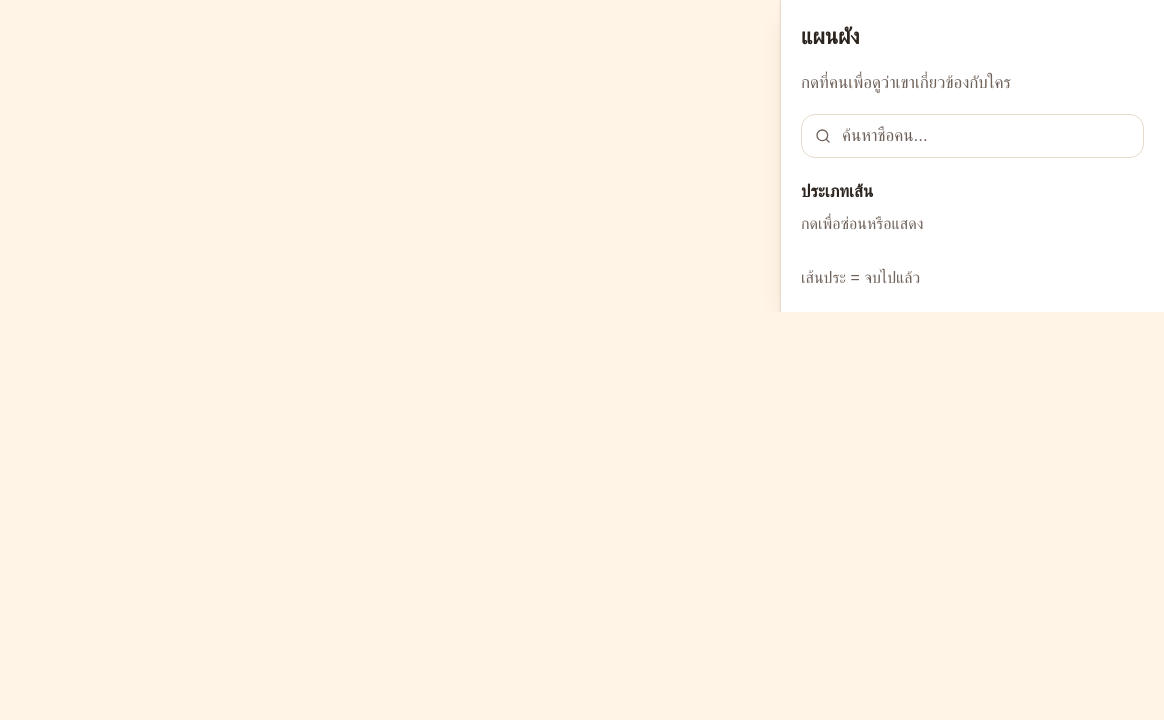
Test case: GraphPage starting view › walks to someone found through the panel's search
The image size is (1164, 720).
Type "คน 4" into the field labelled "ค้นหาชื่อคน...".
click(972, 136); type("คน 4")  # box left=801, top=114, right=1144, bottom=158
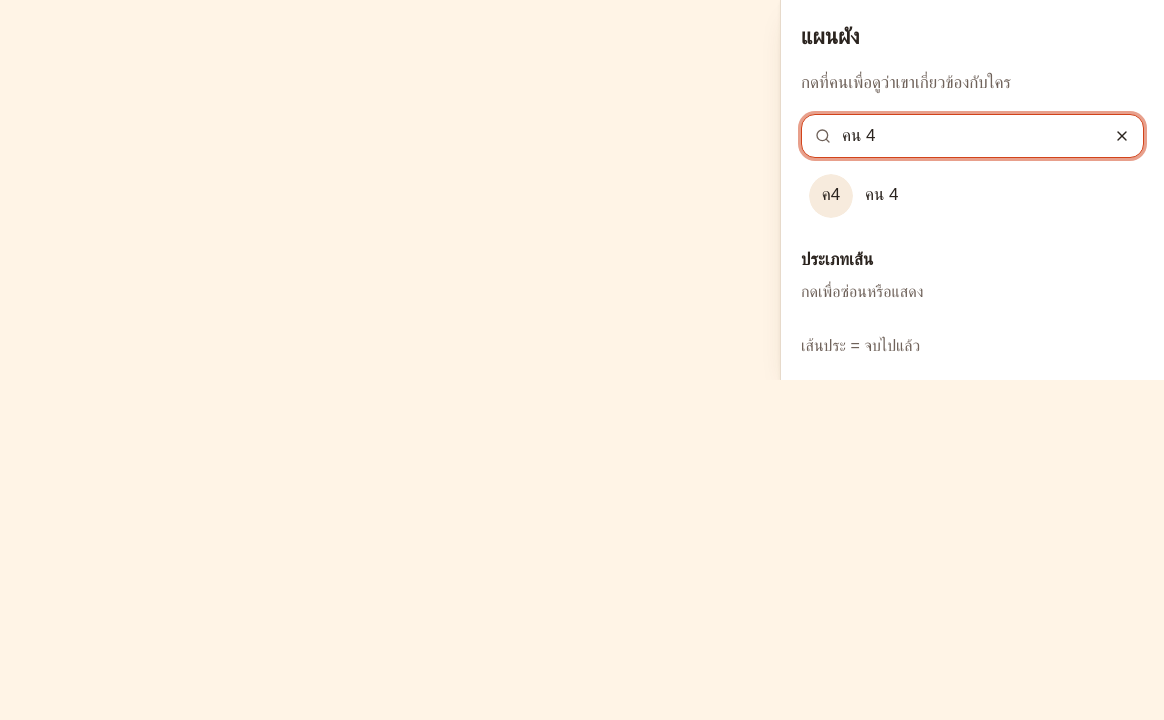
Click the button "ค4 คน 4".
click(831, 196)  # box left=801, top=166, right=1144, bottom=226
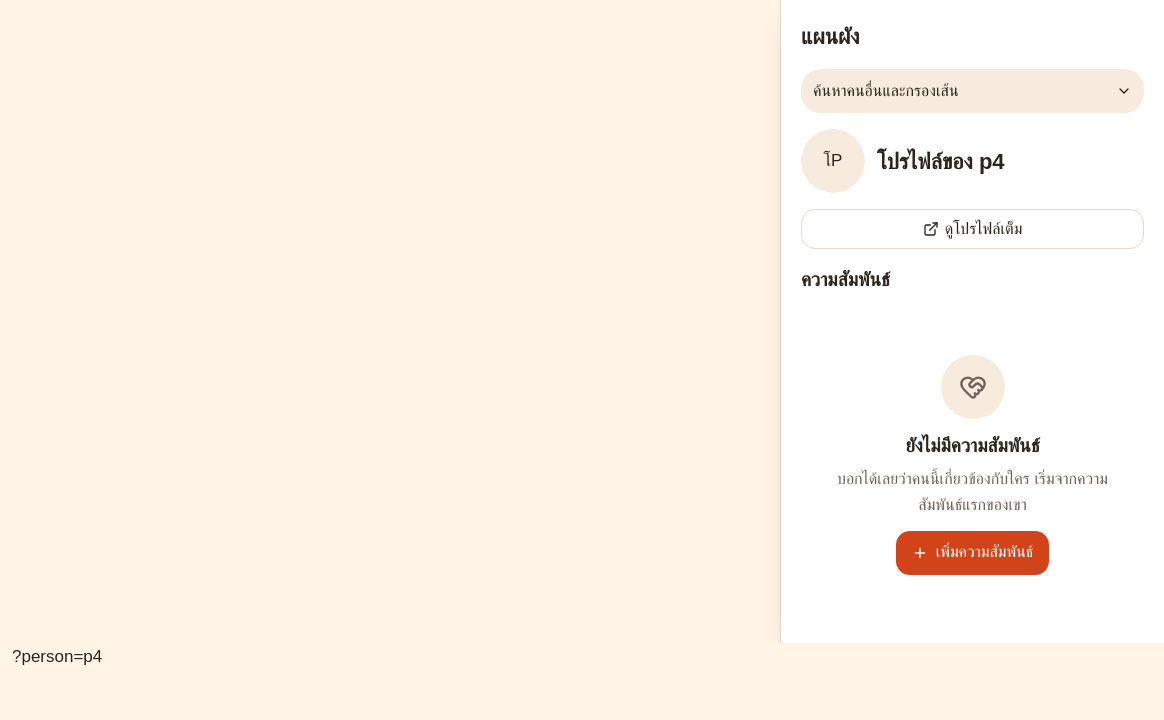
expect the heading "โปรไฟล์ของ p4" is shown: met, box left=877, top=148, right=1005, bottom=174
expect the text with test id "url" reads "?person=p4": met, box left=12, top=647, right=102, bottom=666
